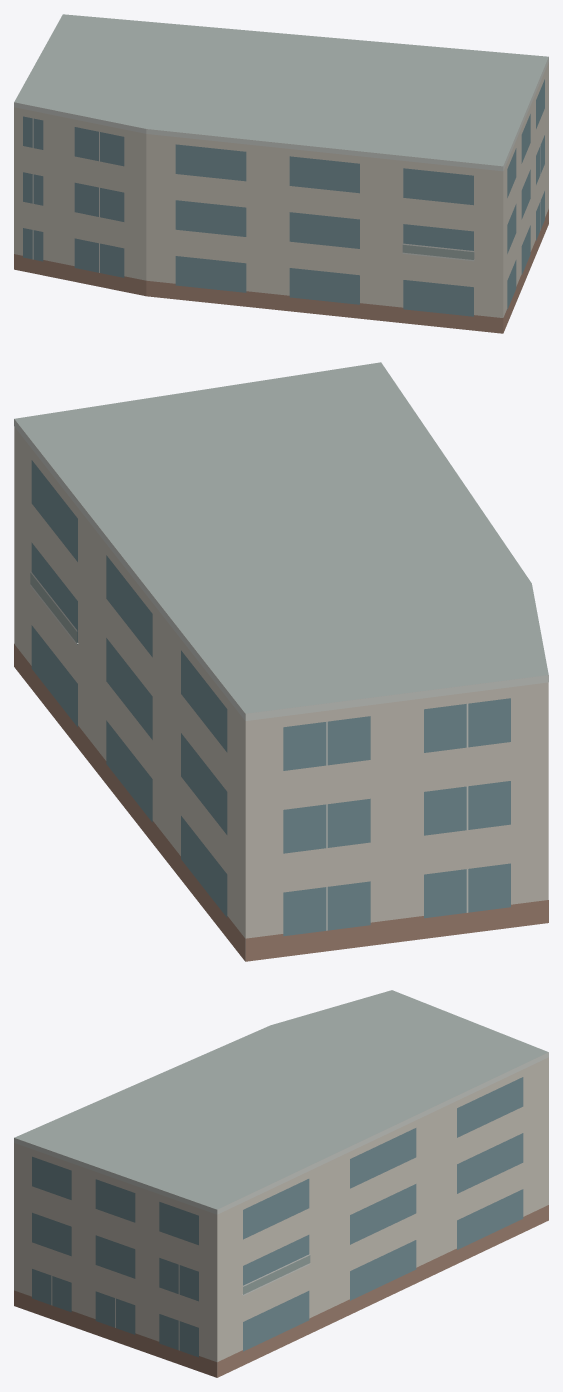
File: survey-upis-32489795.glb
3 views of the same model, one above another, from view 1: azimuth 30°, elevation 25°; view 2: azimuth 150°, elevation 25°; view 3: azimuth 270°, elevation 25° (orthographic). The views are drawn at different scales.
Parts seen in each view (by area): view 1: survey-upis-32489795.tmp; view 2: survey-upis-32489795.tmp; view 3: survey-upis-32489795.tmp.
Boxes of the visible parts, x1,y1,x2,y2 form: survey-upis-32489795.tmp: [14, 14, 548, 333]; survey-upis-32489795.tmp: [14, 362, 548, 961]; survey-upis-32489795.tmp: [14, 990, 548, 1377].
Size of the model in its own units: 22.98 by 8.2 by 23.64.
